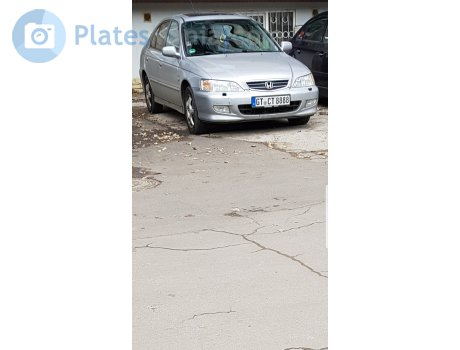License Plates: (255, 98, 295, 104)
